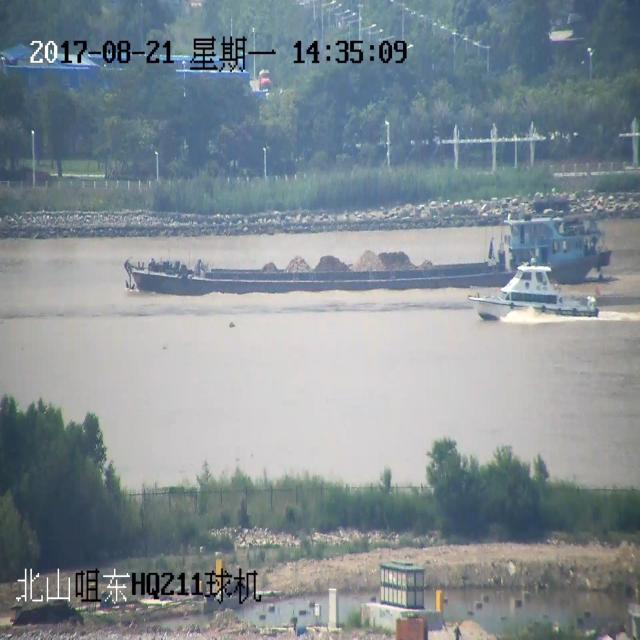cargoship: (104, 198, 608, 310)
passenger ship: (464, 265, 600, 332)
